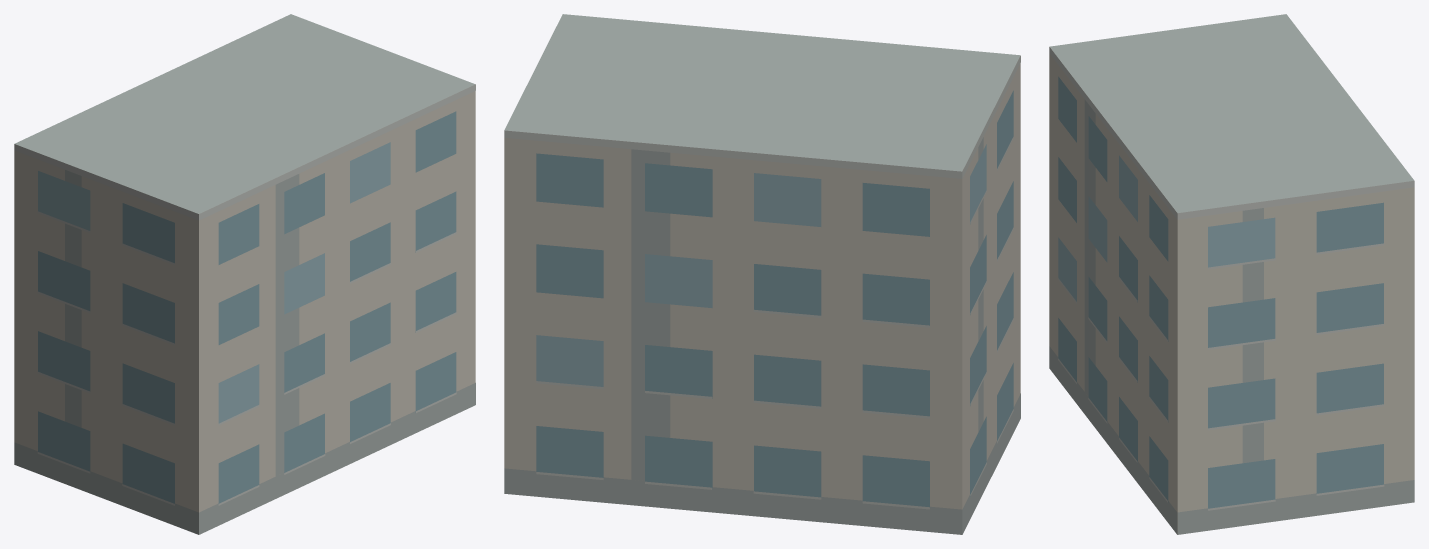
File: residential-95ea4437-31ad-4364-a721-66e70a597887.glb
The picture shows the model from 3 angles, left to right: view 1: azimuth 30°, elevation 25°; view 2: azimuth 150°, elevation 25°; view 3: azimuth 270°, elevation 25°; orthographic projection. The views are drawn at different scales.
Visible parts, largest first — view 1: residential-95ea4437-31ad-4364-a721-66e70a597887.tmp; view 2: residential-95ea4437-31ad-4364-a721-66e70a597887.tmp; view 3: residential-95ea4437-31ad-4364-a721-66e70a597887.tmp.
Part boxes in pixels (x1=…): residential-95ea4437-31ad-4364-a721-66e70a597887.tmp: x1=14, y1=14, x2=475, y2=534; residential-95ea4437-31ad-4364-a721-66e70a597887.tmp: x1=504, y1=14, x2=1020, y2=534; residential-95ea4437-31ad-4364-a721-66e70a597887.tmp: x1=1049, y1=14, x2=1414, y2=534.
Bounding box in the file's own units: 15.95 × 12 × 12.36.
